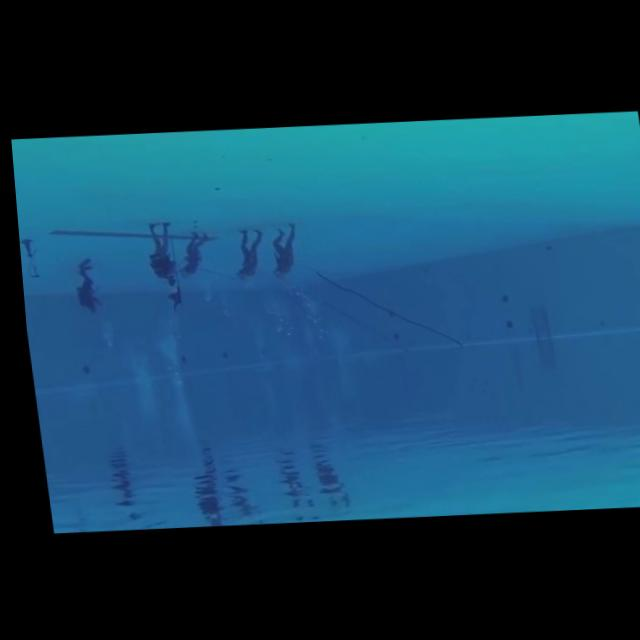human: (125, 212, 177, 294), (58, 250, 107, 326), (167, 222, 216, 289), (257, 219, 305, 287), (220, 221, 269, 287)
